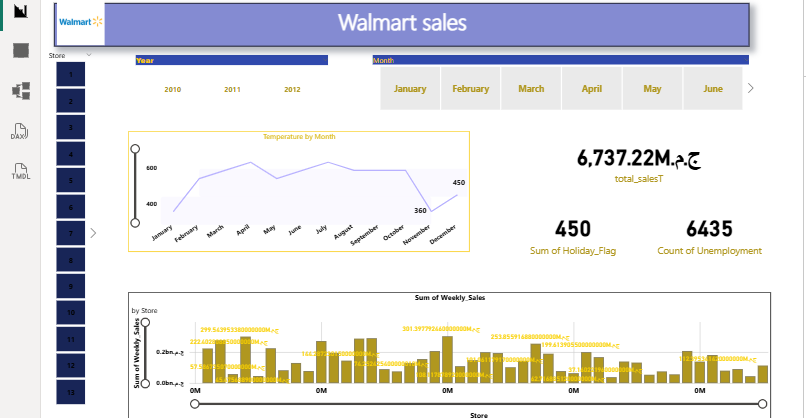

The page's visual inventory and layout, read from the dashboard file:
{"tool":"powerbi","page":{"name":"Page 1","canvas":[1280,720],"ordinal":0},"visuals":[{"type":"card","fields":{"Values":["Walmart_Sales.total_salesT"]},"box":[782.8,234.5,443.1,101.7],"z":0},{"type":"slicer","fields":{"Values":["demition.Store"]},"box":[0,94.8,98.3,606.9],"z":1000},{"type":"slicer","fields":{"Values":["Walmart_Sales.Date.Variation.Date Hierarchy.Year"]},"box":[146.1,102.5,349.4,104.1],"z":2000},{"type":"slicer","fields":{"Values":["Walmart_Sales.Date.Variation.Date Hierarchy.Month"]},"box":[544.3,102.5,658.5,104.1],"z":3000},{"type":"clusteredColumnChart","fields":{"Category":["demition.Store"],"Y":["Sum(Walmart_Sales.Weekly_Sales)"]},"box":[146.1,505.6,1080.1,215],"z":4000},{"type":"card","fields":{"Values":["Sum(Walmart_Sales.Holiday_Flag)"]},"box":[782.8,361.2,221.7,90.7],"z":5000},{"type":"lineChart","title":" Temperature by Month","fields":{"Y":["CountNonNull(Walmart_Sales.Temperature)"],"Category":["Walmart_Sales.Date.Variation.Date Hierarchy.Month"]},"box":[146.6,234.5,574.1,203.4],"z":6000},{"type":"card","fields":{"Values":["CountNonNull(Walmart_Sales.Unemployment)"]},"box":[1019.6,361.2,206.6,90.7],"z":7000},{"type":"textbox","box":[21.7,20,1168.3,73.3],"z":8000},{"type":"image","box":[21.7,0,90,101.7],"z":8001}]}

Visuals, with their boxes in screenshot pixels (x1, y1, x2, y2):
card - Walmart_Sales.total_salesT: x1=446, y1=126, x2=699, y2=184
slicer - demition.Store: x1=0, y1=46, x2=54, y2=393
slicer - Walmart_Sales.Date.Variation.Date Hierarchy.Year: x1=81, y1=50, x2=281, y2=110
slicer - Walmart_Sales.Date.Variation.Date Hierarchy.Month: x1=309, y1=50, x2=686, y2=110
clusteredColumnChart - demition.Store x Sum(Walmart_Sales.Weekly_Sales): x1=81, y1=281, x2=699, y2=404
card - Sum(Walmart_Sales.Holiday_Flag): x1=446, y1=198, x2=573, y2=250
" Temperature by Month" lineChart: x1=82, y1=126, x2=410, y2=242
card - CountNonNull(Walmart_Sales.Unemployment): x1=581, y1=198, x2=699, y2=250
textbox: x1=10, y1=3, x2=679, y2=45
image: x1=10, y1=0, x2=62, y2=50
